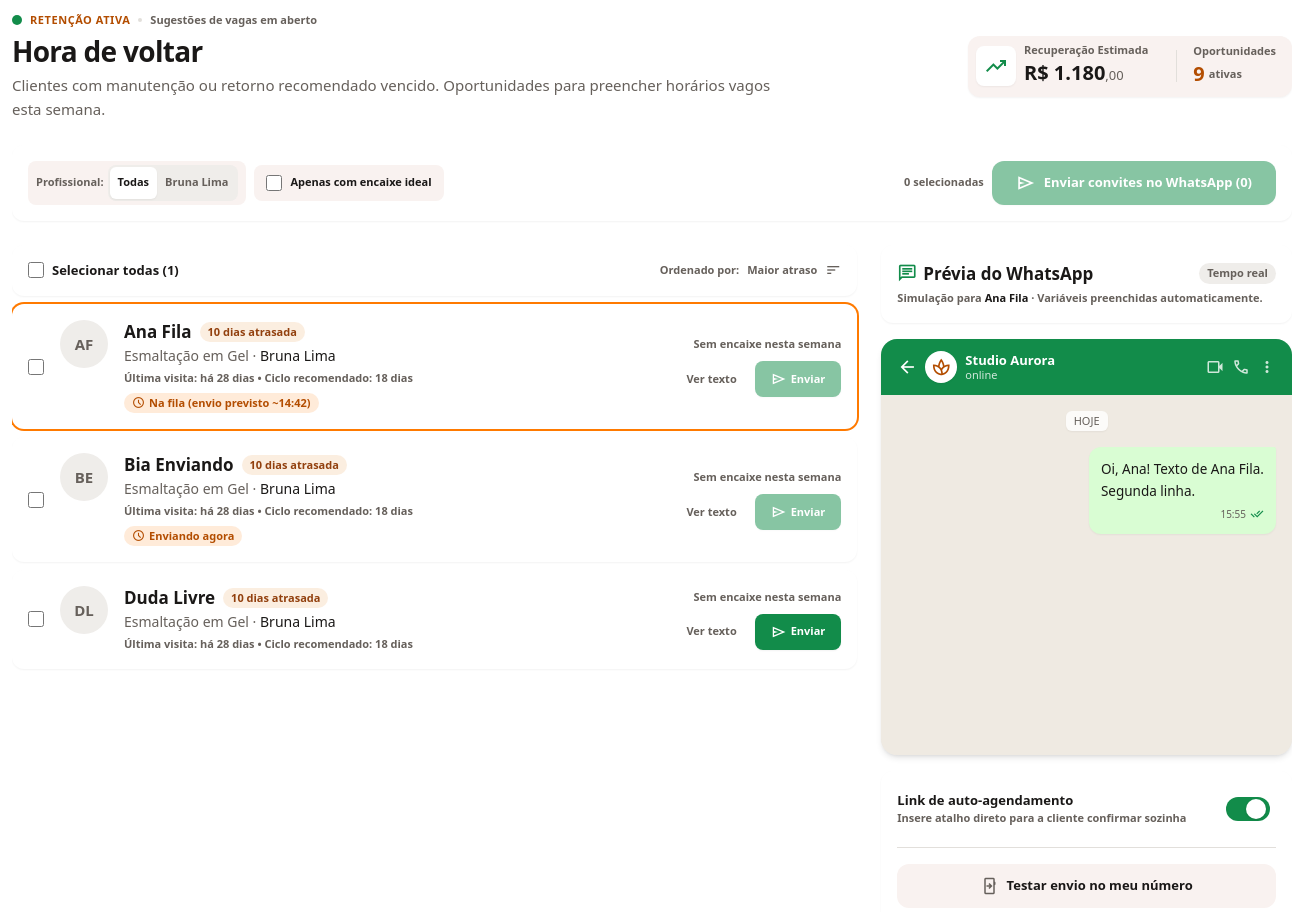
Test: HoraDeVoltar › "Selecionar todas" ignora quem já está na fila ou sendo enviada
Expected: the text "Duda Livre" is shown, 124,586 -> 215,610
Click the checkbox labelled "Selecionar todas (1)".
click(36, 270)  # box 28,262 -> 44,278
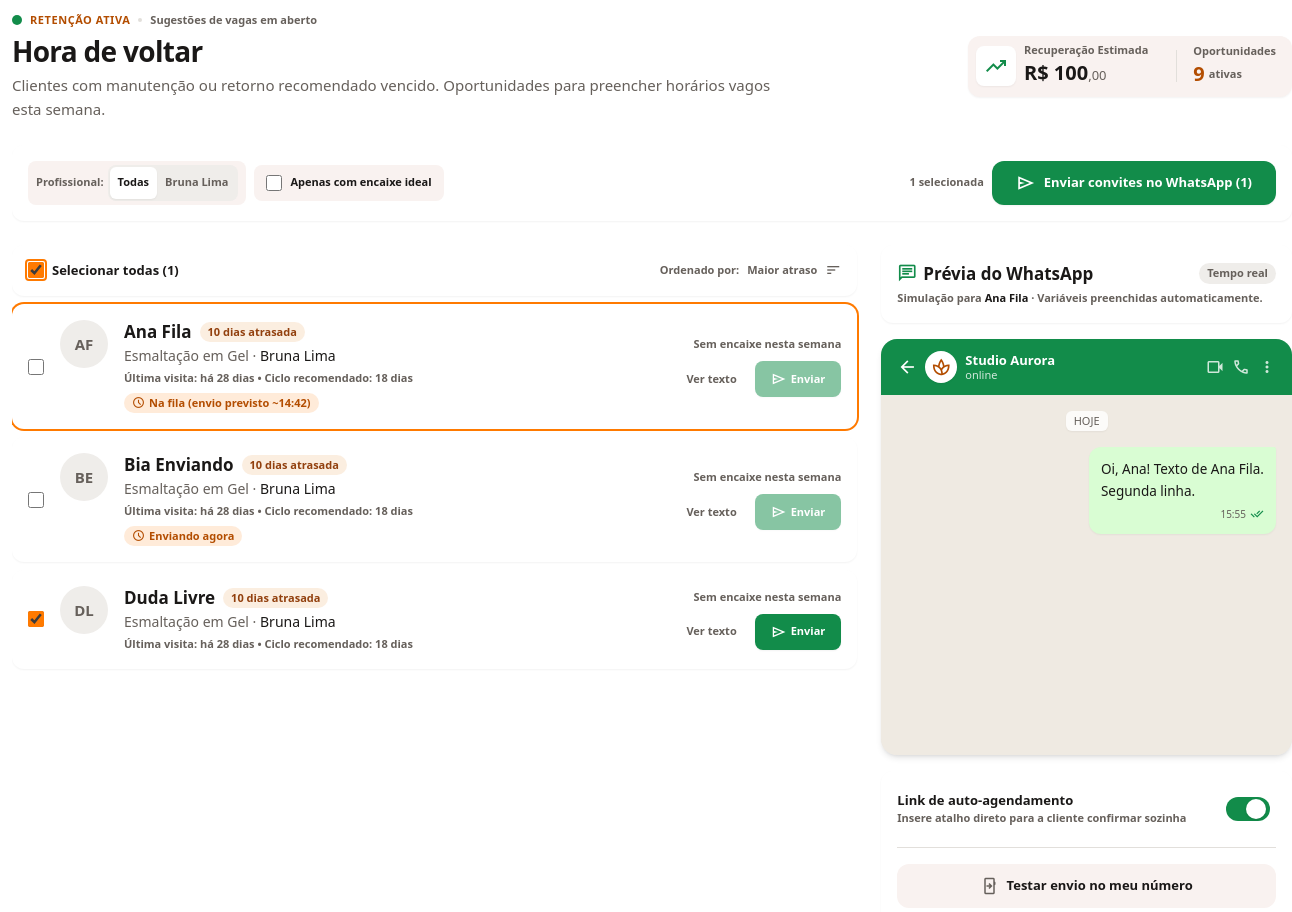
Expected: the checkbox named "Selecionar Ana Fila" is not checked, 28,358 -> 44,374
Expected: the checkbox named "Selecionar Duda Livre" is checked, 28,611 -> 44,627
